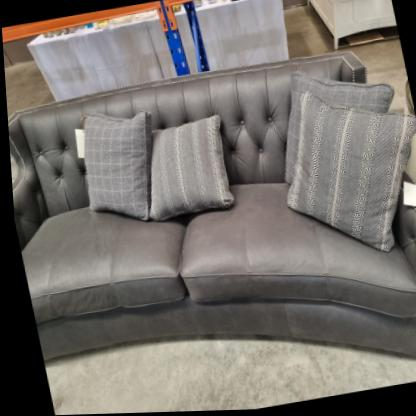Sofa: (3, 39, 416, 416)
